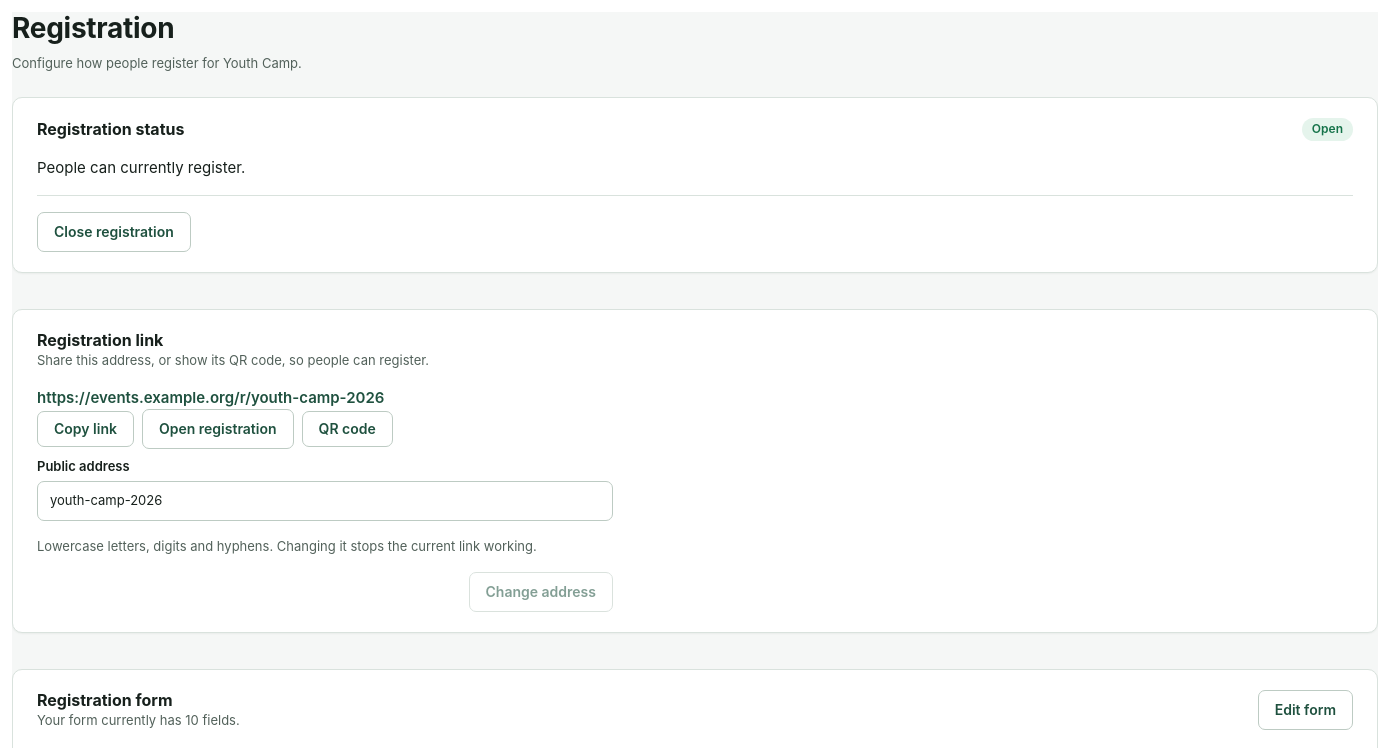
registration page › closes an open registration, and reopens a closed one
The image size is (1378, 748).
Click the button "Close registration" at (114, 232), box [37,212,191,252]
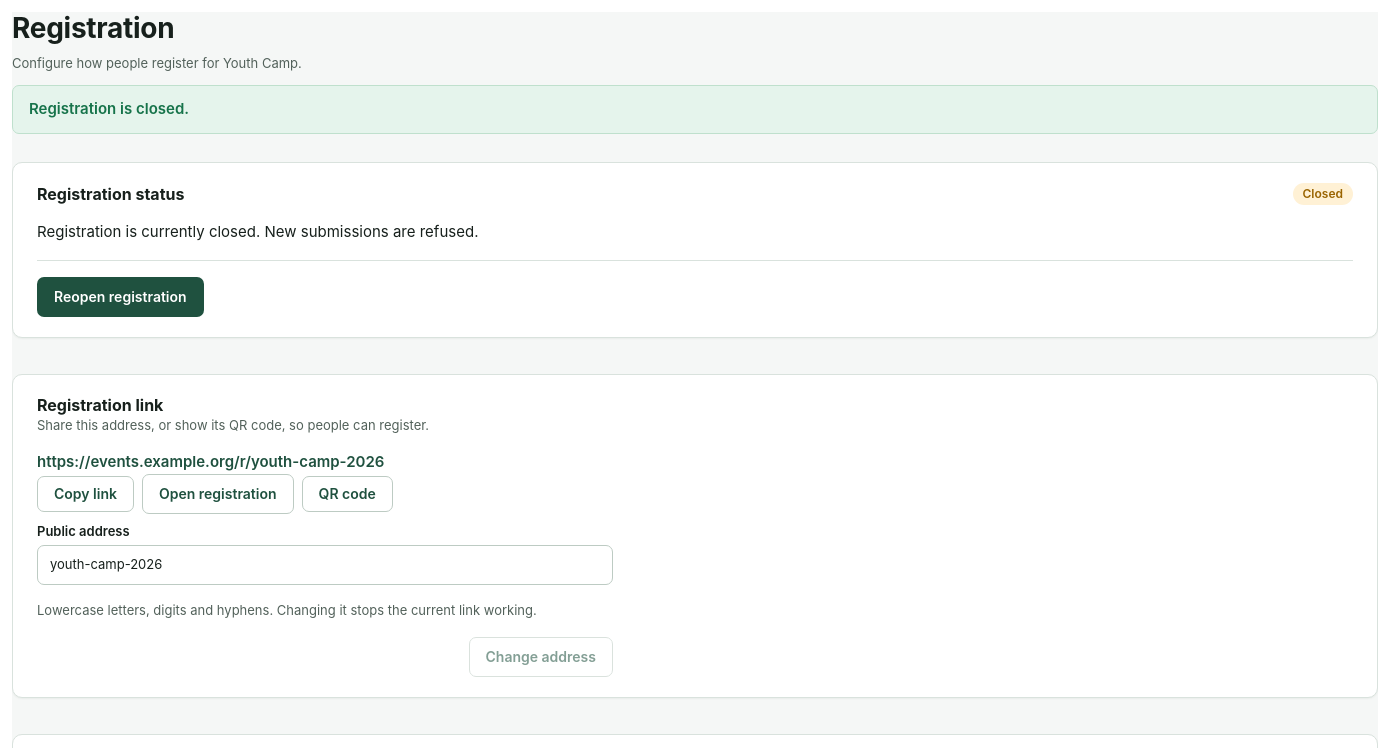
Expected: the text "Registration is closed." is shown, [12,85,1377,134]
Expected: the button "Reopen registration" is shown, [37,277,204,317]
